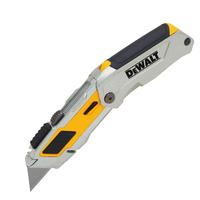knife: (24, 33, 184, 197)
